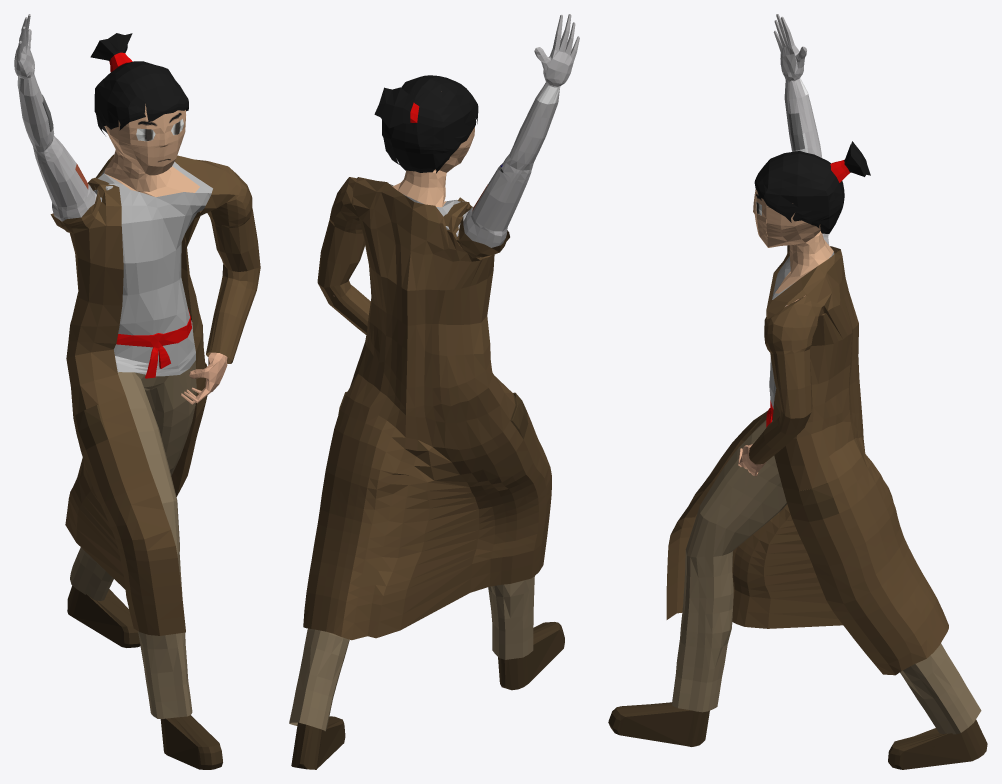
File: Special_Attack_000028.obj
3 renders of one model, left to right at view 1: azimuth 30°, elevation 25°; view 2: azimuth 150°, elevation 25°; view 3: azimuth 270°, elevation 25°, orthographic. The views are drawn at different scales.
Visible parts, largest first — view 1: Hair_Cube.004; view 2: Hair_Cube.004; view 3: Hair_Cube.004.
Part boxes in pixels (x1=…): Hair_Cube.004: x1=14, y1=14, x2=260, y2=769; Hair_Cube.004: x1=289, y1=14, x2=579, y2=769; Hair_Cube.004: x1=608, y1=14, x2=987, y2=769.
Size of the model in its own units: 1.53 by 4.26 by 2.15.
